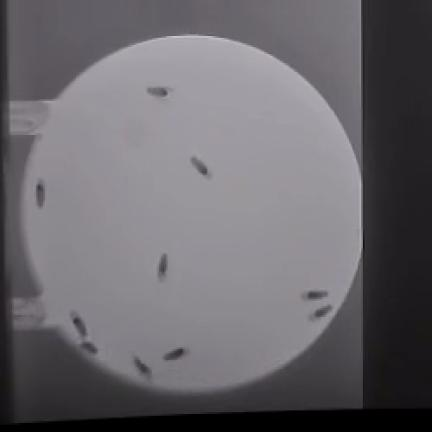fly: (70, 312, 88, 338), (134, 355, 152, 379), (191, 157, 210, 176), (312, 305, 333, 320), (165, 348, 188, 361), (303, 290, 328, 300), (147, 87, 171, 97), (158, 254, 167, 280), (80, 341, 98, 354), (37, 180, 44, 206)
